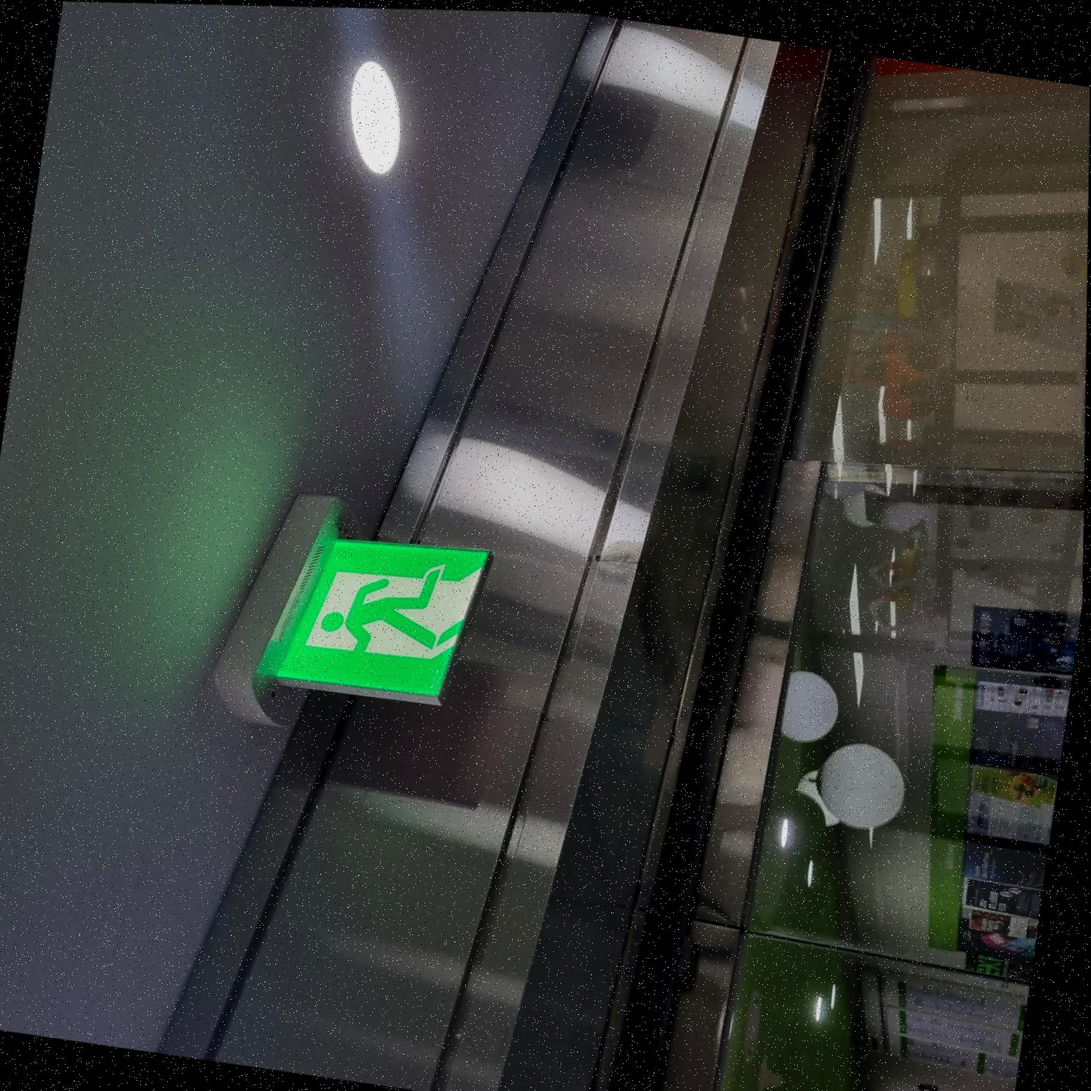emergency_exit: (253, 531, 493, 708)
